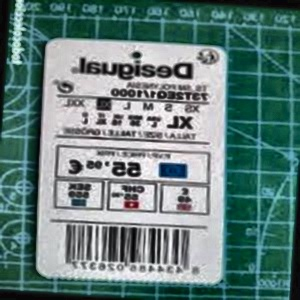desigual: (163, 27, 232, 80)
